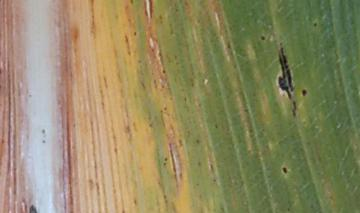tarspot: (277, 42, 295, 99), (291, 100, 298, 117), (300, 87, 308, 97), (30, 204, 38, 213), (280, 165, 288, 174), (259, 34, 267, 42), (160, 66, 167, 75), (162, 102, 168, 112), (311, 20, 318, 28), (39, 137, 47, 144), (39, 127, 46, 135), (194, 137, 201, 144), (163, 155, 168, 162), (132, 29, 137, 36), (128, 1, 135, 5)
